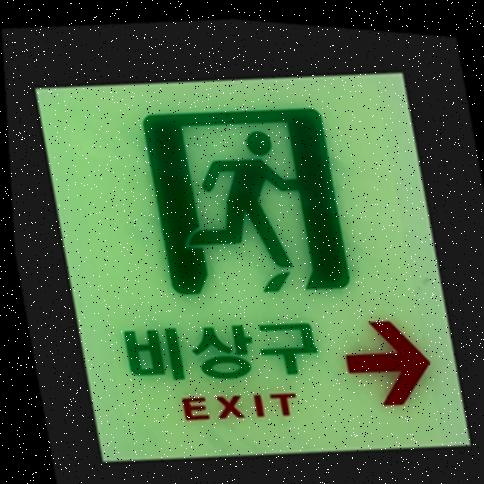emergency_exit: (7, 22, 480, 475), (32, 66, 472, 464)
